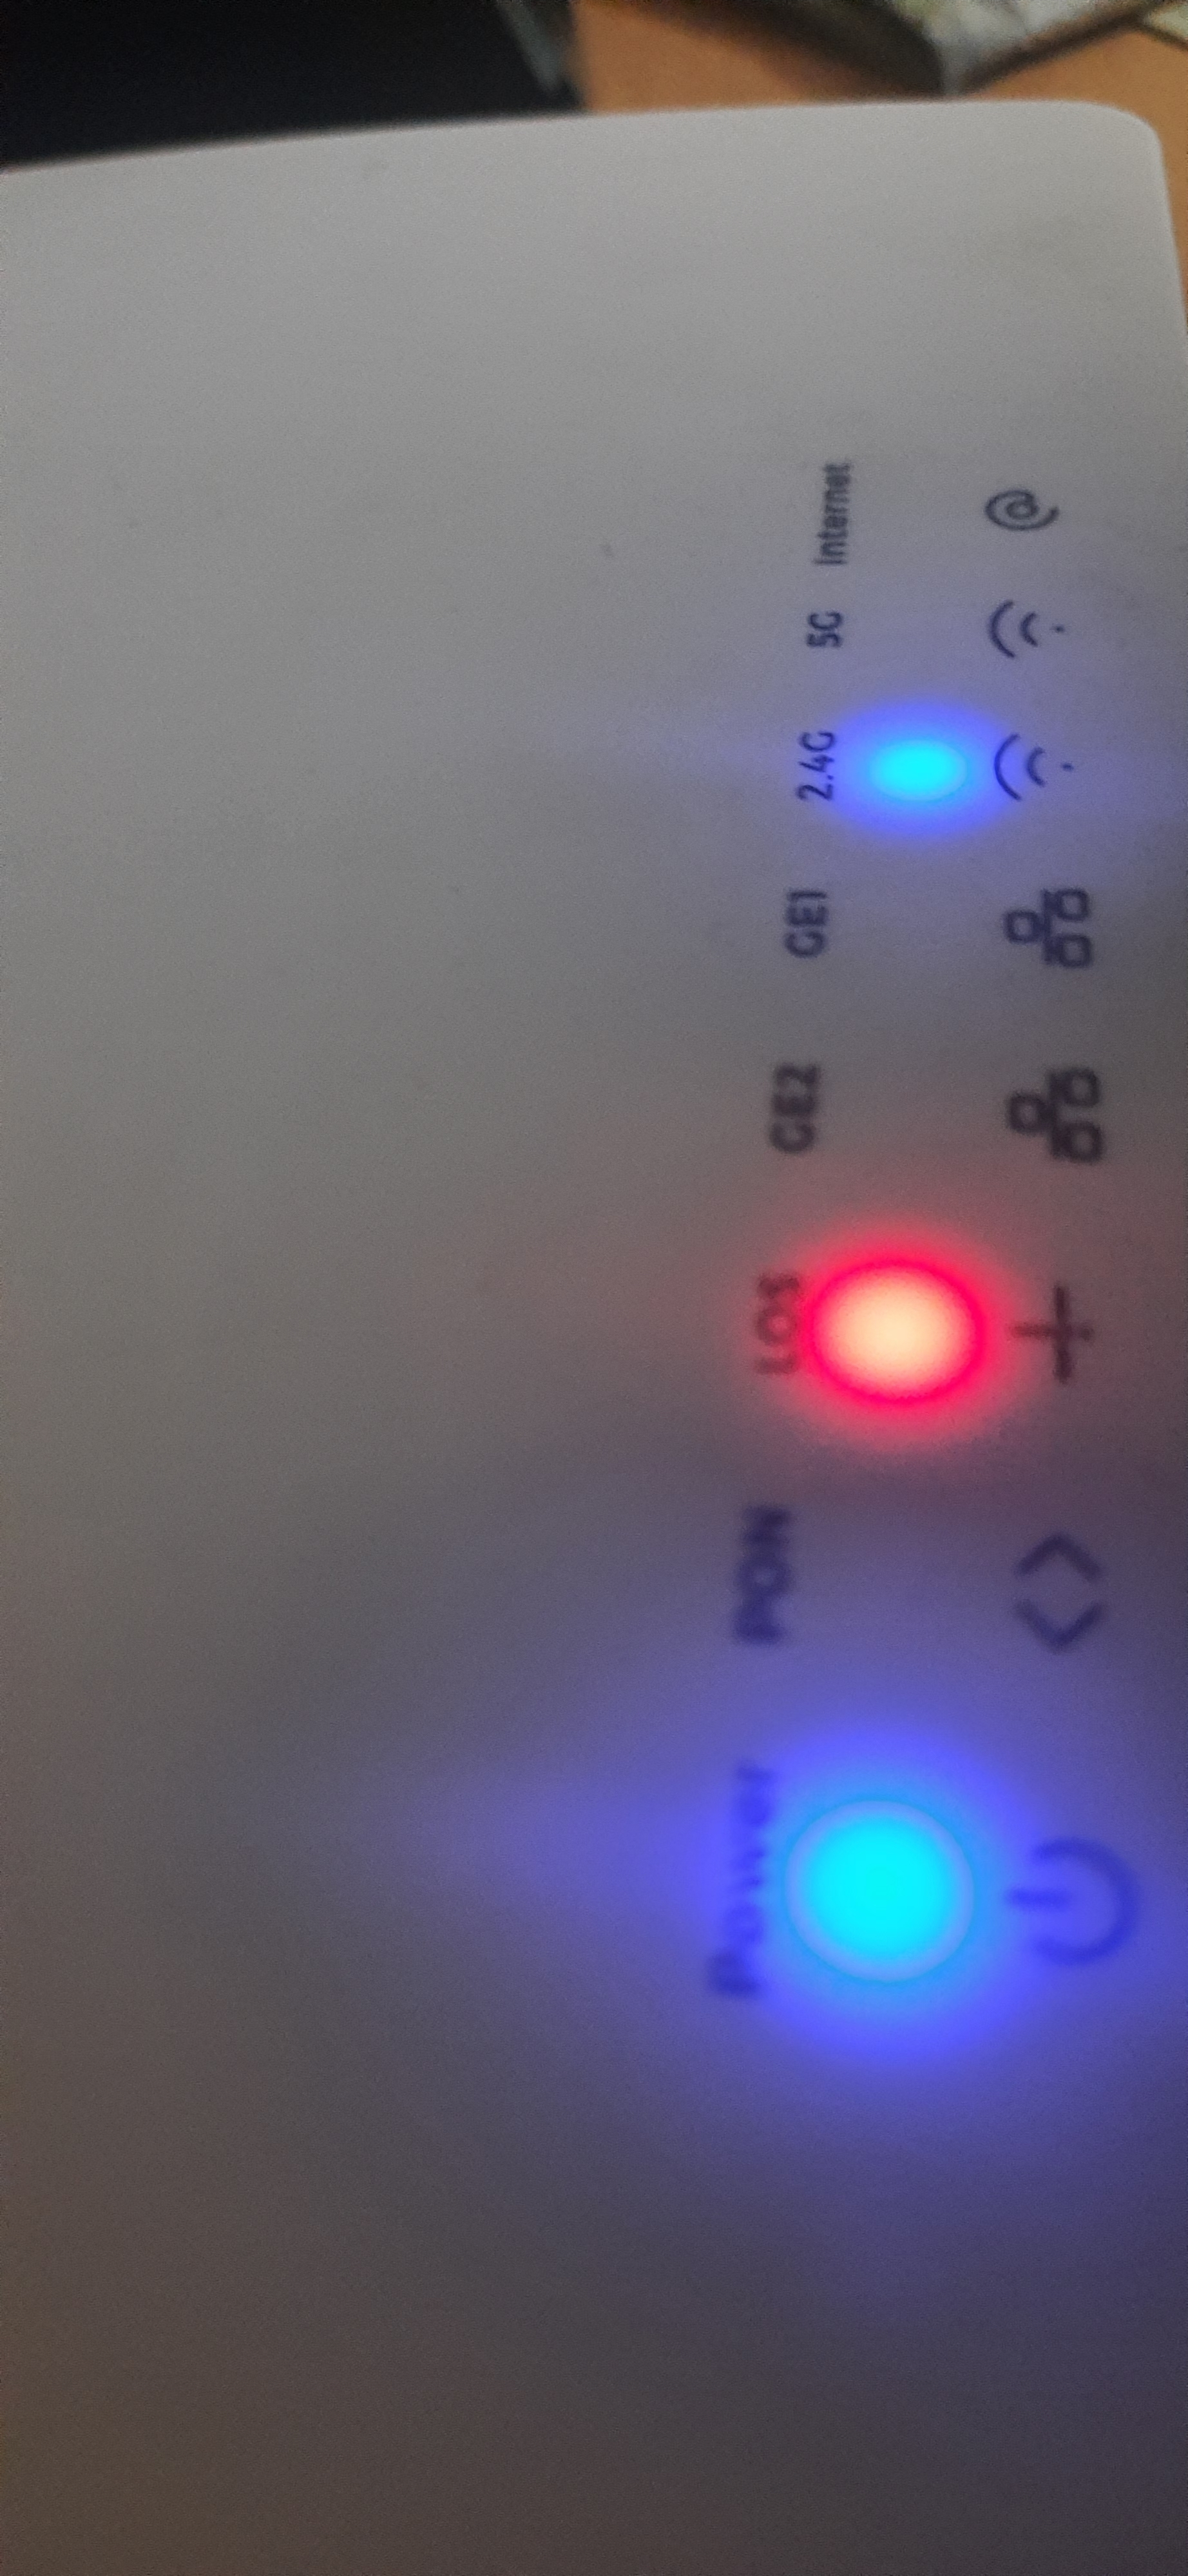LOSConnectionIssue: (583, 1204, 1163, 1459)
